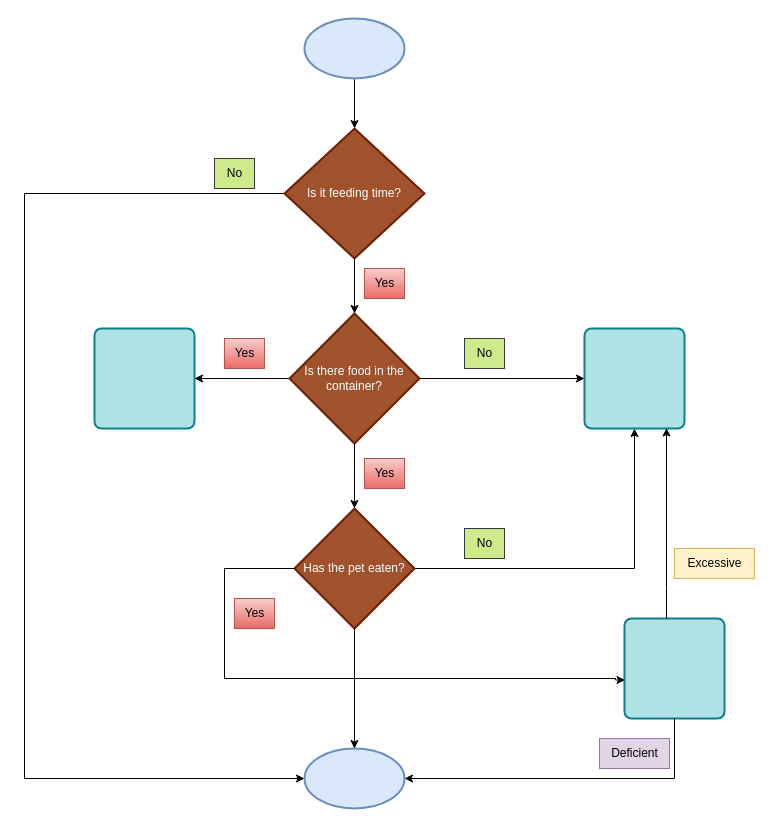
This 772x826 diagram has some shape labels left out. The shapes that lost their labels are listed below. From the top down, each one's centre as x and y in pixels, then its label:
(x=354, y=48): System On
(x=144, y=378): Dispense Food
(x=634, y=378): Send alert
(x=674, y=668): Monitor the amount
(x=354, y=778): System Off
